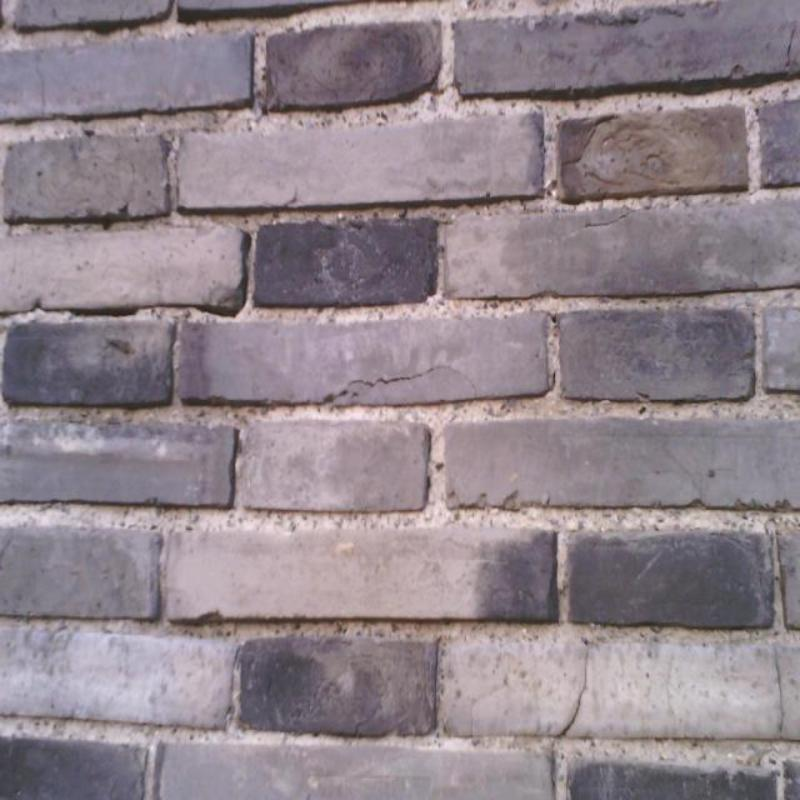pothole: (321, 365, 478, 403), (557, 650, 589, 737), (583, 210, 638, 227), (775, 662, 786, 741), (35, 69, 46, 120), (785, 29, 795, 71), (74, 310, 134, 315)
